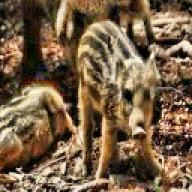boar: (74, 18, 170, 192), (0, 0, 130, 81), (0, 83, 75, 177)
